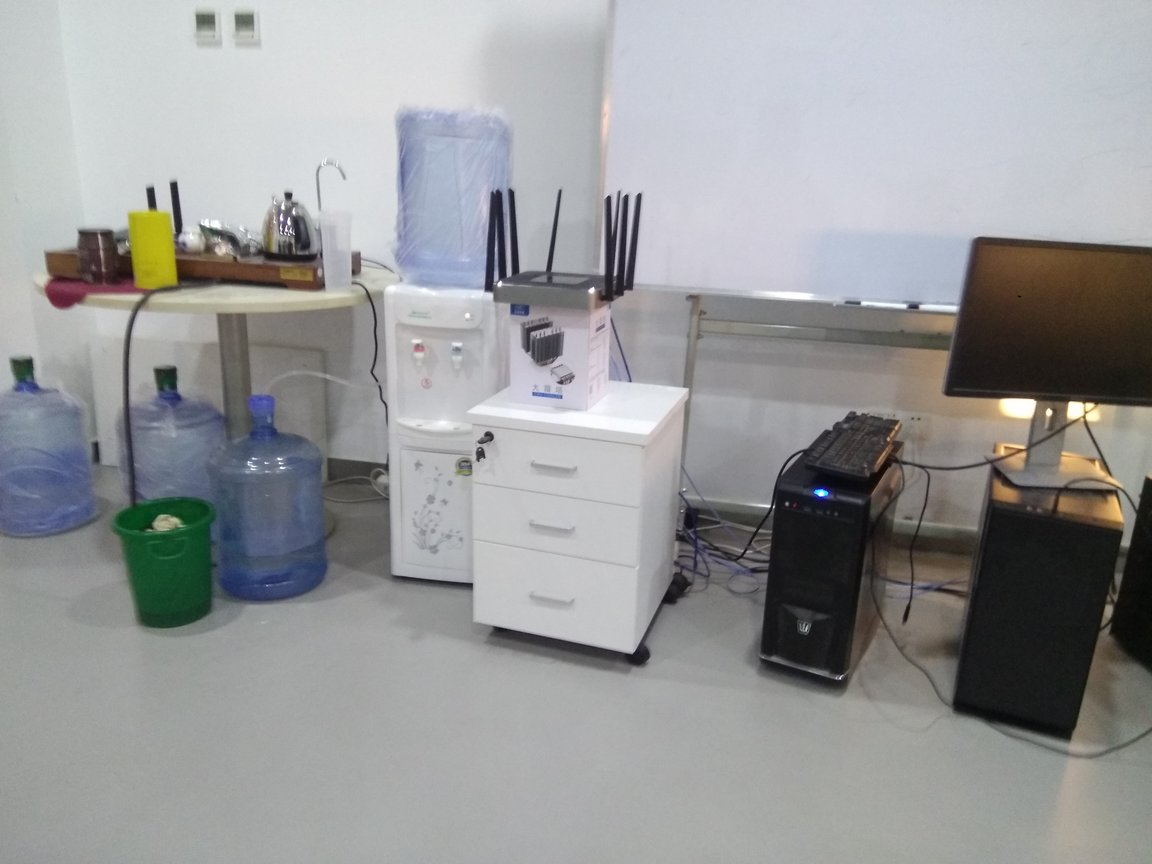computer: (958, 430, 1124, 781), (760, 419, 899, 716)
drawer chest: (461, 369, 691, 668)
monitor: (943, 226, 1152, 488)
scuttlebutt: (388, 99, 520, 298), (214, 392, 335, 607), (117, 362, 229, 568), (1, 352, 102, 547)
water dispenser: (374, 276, 523, 593)
